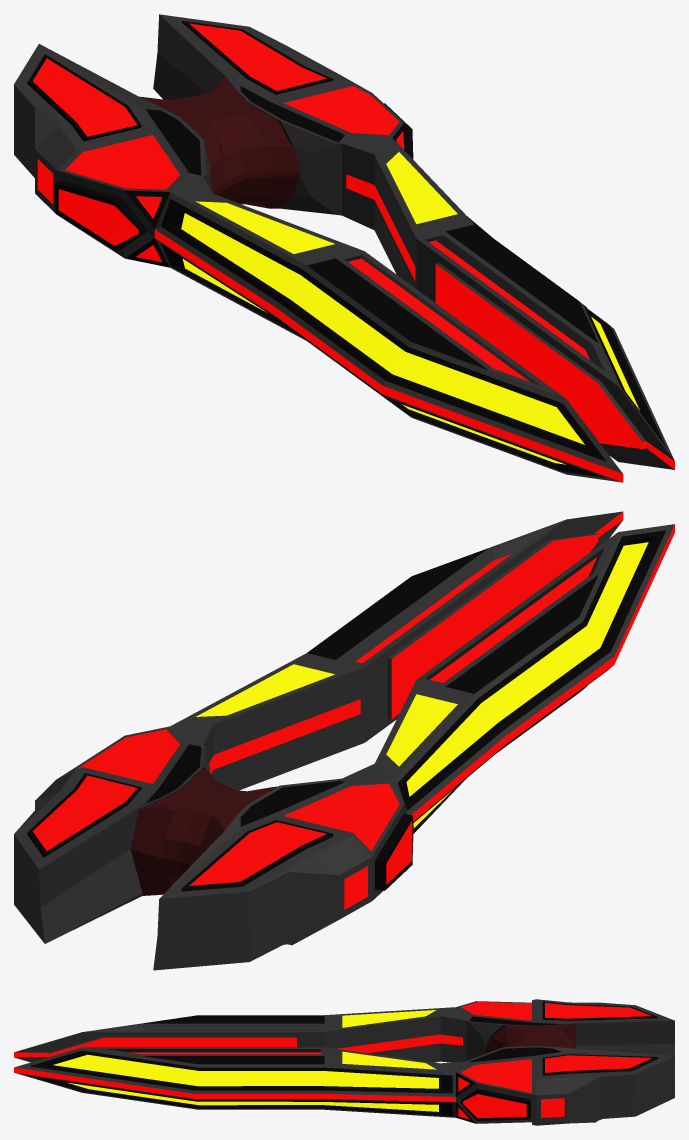
Rendered from game blaster.fbx.
3 renders of one model, top to bottom at view 1: azimuth 30°, elevation 25°; view 2: azimuth 150°, elevation 25°; view 3: azimuth 270°, elevation 25°, orthographic. The views are drawn at different scales.
Visible parts, largest first — view 1: Blaster; view 2: Blaster; view 3: Blaster.
Boxes of the visible parts, bbox=[...] form: Blaster: bbox=[14, 14, 674, 482]; Blaster: bbox=[14, 511, 674, 970]; Blaster: bbox=[14, 999, 674, 1125].
Size of the model in its own units: 284 by 74.69 by 822.
